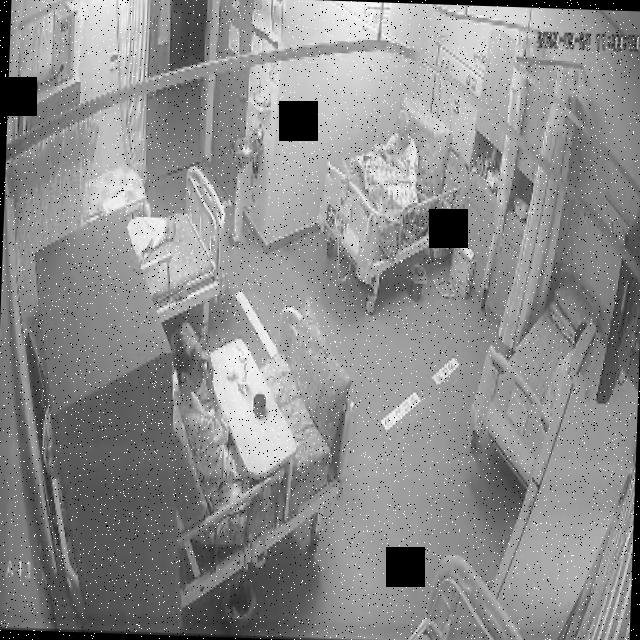bed: (166, 310, 350, 581), (468, 265, 592, 490), (317, 118, 465, 274), (130, 161, 230, 320)
patient: (164, 323, 243, 504), (385, 109, 423, 184)
sit: (166, 322, 337, 502), (351, 113, 426, 210)
